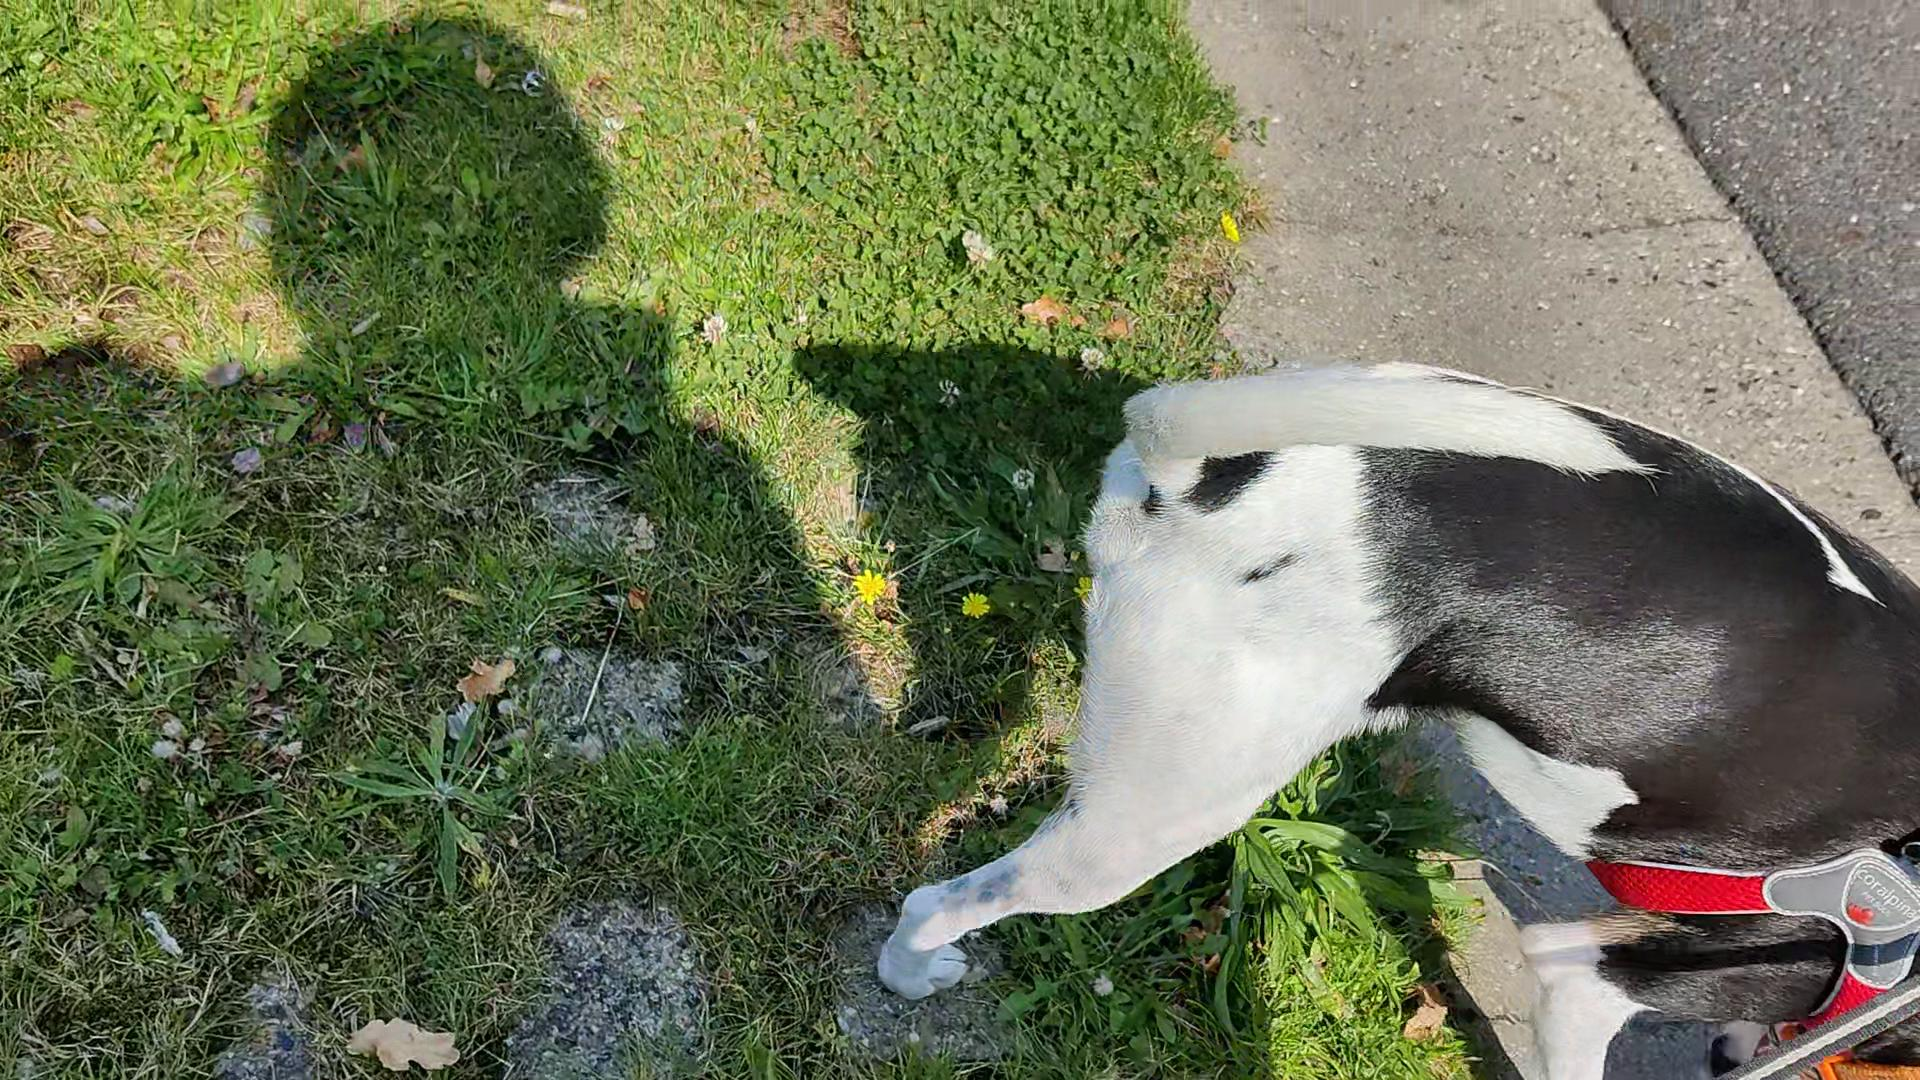Dog: (865, 338, 1919, 1079)
